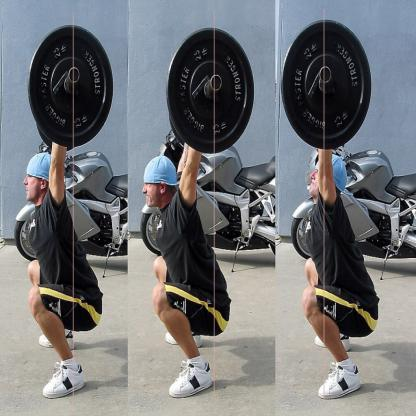Barbell: (164, 18, 258, 156), (283, 15, 374, 150), (25, 19, 115, 154)
